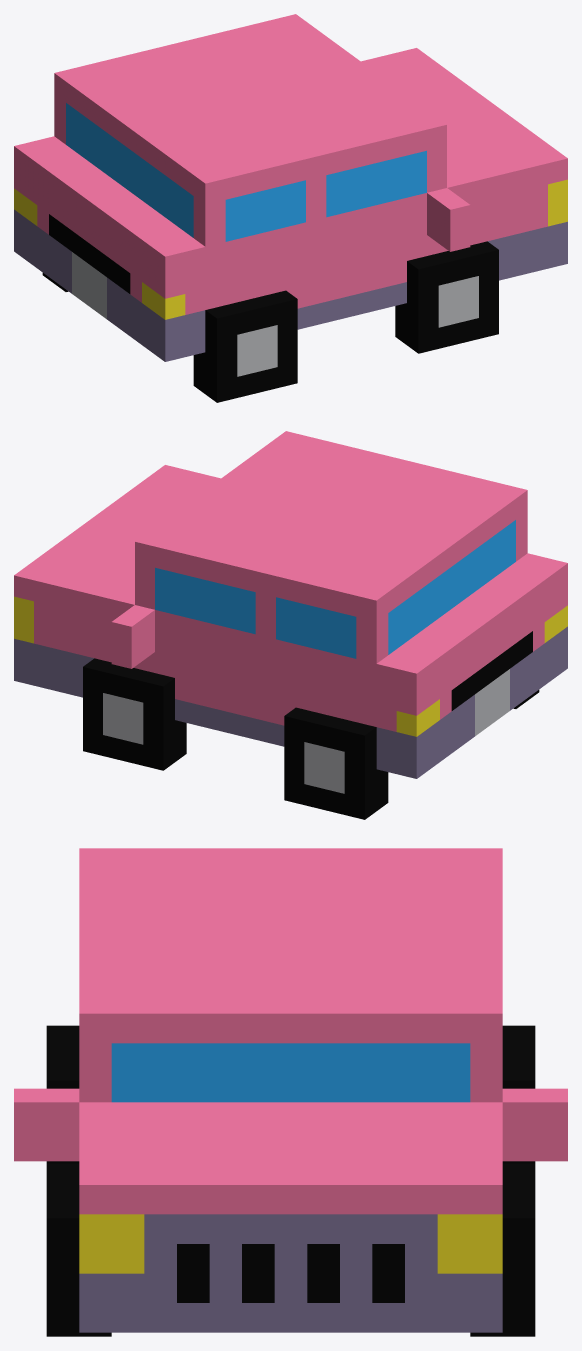
Rendered from car_e.obj.
3 views of the same model, one above another, from view 1: azimuth 30°, elevation 25°; view 2: azimuth 150°, elevation 25°; view 3: azimuth 270°, elevation 25° (orthographic). The views are drawn at different scales.
Size of the model in its own units: 2 by 1 by 1.7.
Materials: 1 (1 with a texture image).
